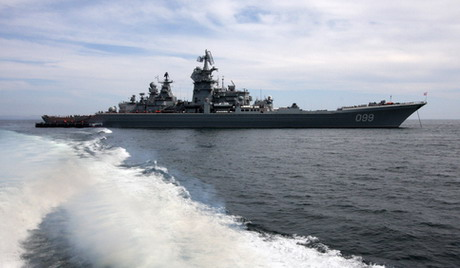warship: (27, 46, 427, 130)
